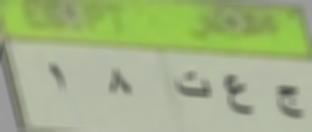1: (43, 60, 70, 92)
8: (105, 67, 132, 99)
ain: (221, 71, 254, 122)
jeem: (273, 80, 305, 124)
taa: (173, 67, 215, 104)
